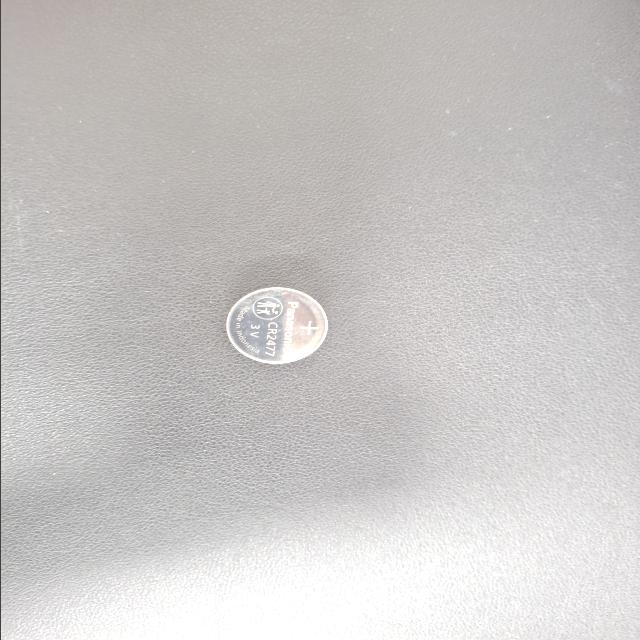COIN: (167, 233, 273, 313)
